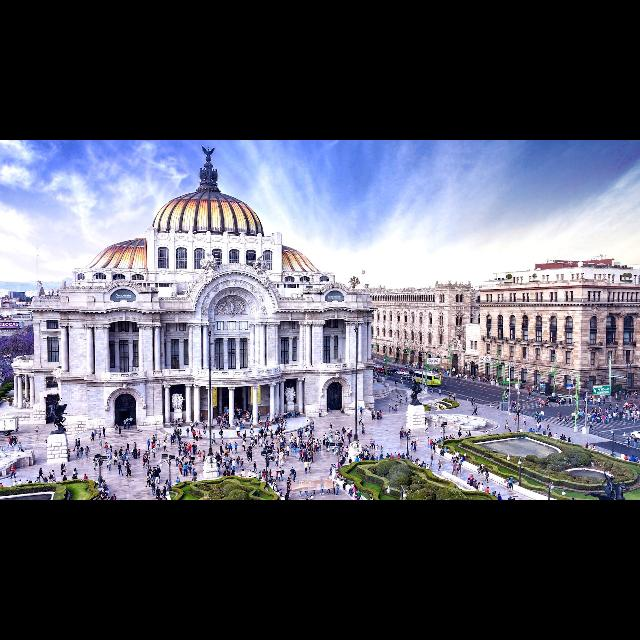head: (344, 478, 348, 482), (113, 494, 115, 498), (275, 484, 277, 488), (285, 448, 287, 452), (328, 480, 332, 482), (355, 492, 357, 496), (340, 474, 342, 478), (51, 470, 54, 472), (314, 481, 316, 484), (321, 480, 324, 482), (333, 481, 335, 484), (495, 491, 497, 494), (0, 483, 2, 485), (12, 465, 14, 467), (9, 437, 11, 439), (11, 436, 13, 438), (14, 436, 16, 438), (19, 442, 21, 444), (15, 481, 17, 483), (20, 480, 22, 482), (27, 480, 29, 482), (29, 479, 31, 481), (38, 477, 40, 479), (41, 468, 43, 470), (45, 477, 47, 479), (49, 472, 51, 474), (61, 463, 63, 465), (64, 464, 66, 466), (64, 476, 66, 478), (75, 469, 77, 471), (85, 474, 87, 476), (68, 449, 70, 451), (76, 439, 78, 441), (78, 438, 80, 440), (77, 448, 79, 450), (81, 447, 83, 449), (86, 446, 88, 448), (94, 459, 96, 461), (92, 432, 94, 434), (116, 425, 118, 427), (119, 427, 121, 429), (100, 438, 102, 440), (106, 443, 108, 445), (105, 443, 107, 445), (110, 445, 112, 447), (125, 419, 127, 421), (130, 416, 132, 418), (108, 458, 110, 460), (110, 453, 112, 455), (115, 455, 117, 457), (119, 463, 121, 465), (120, 449, 122, 451), (121, 447, 123, 449), (127, 443, 129, 445), (125, 449, 127, 451), (124, 453, 126, 455), (125, 460, 127, 462), (128, 466, 130, 468), (134, 448, 136, 450), (134, 442, 136, 444), (134, 447, 136, 449), (148, 439, 150, 441), (144, 455, 146, 457), (154, 446, 156, 448), (153, 442, 155, 444), (153, 435, 155, 437), (155, 434, 157, 436), (157, 439, 159, 441), (164, 440, 166, 442), (165, 432, 167, 434), (163, 496, 165, 498), (164, 487, 166, 489), (157, 486, 159, 488), (153, 481, 155, 483), (165, 484, 167, 486), (177, 477, 179, 479), (147, 474, 149, 476), (158, 472, 160, 474), (157, 466, 159, 468), (194, 474, 196, 476), (193, 469, 195, 471), (180, 463, 182, 465), (185, 463, 187, 465), (186, 461, 188, 463), (189, 461, 191, 463), (192, 455, 194, 457), (199, 451, 201, 453), (203, 450, 205, 452), (171, 435, 173, 437), (173, 433, 175, 435), (174, 433, 176, 435), (180, 434, 182, 436), (187, 428, 189, 430), (194, 430, 196, 432), (196, 431, 198, 433), (175, 420, 177, 422), (191, 422, 193, 424), (204, 423, 206, 425), (213, 433, 215, 435), (238, 413, 240, 415), (238, 425, 240, 427), (243, 418, 245, 420), (247, 413, 249, 415), (251, 414, 253, 416), (259, 411, 261, 413), (268, 412, 270, 414), (250, 423, 252, 425), (244, 434, 246, 436), (235, 442, 237, 444), (244, 440, 246, 442), (229, 443, 231, 445), (226, 443, 228, 445), (220, 446, 222, 448), (217, 453, 219, 455), (221, 453, 223, 455), (225, 455, 227, 457), (227, 460, 229, 462), (230, 457, 232, 459), (234, 459, 236, 461), (238, 456, 240, 458), (241, 457, 243, 459), (224, 471, 226, 473), (228, 471, 230, 473), (232, 471, 234, 473), (242, 469, 244, 471), (250, 470, 252, 472), (253, 471, 255, 473), (255, 461, 257, 463), (250, 451, 252, 453), (251, 433, 253, 435), (258, 434, 260, 436), (264, 422, 266, 424), (267, 421, 269, 423), (265, 431, 267, 433), (265, 438, 267, 440), (272, 417, 274, 419), (285, 420, 287, 422), (281, 420, 283, 422), (271, 429, 273, 431), (260, 472, 262, 474), (270, 470, 272, 472), (271, 476, 273, 478), (274, 479, 276, 481), (275, 481, 277, 483), (275, 485, 277, 487), (281, 489, 283, 491), (288, 484, 290, 486), (292, 467, 294, 469), (277, 459, 279, 461), (279, 453, 281, 455), (287, 445, 289, 447), (297, 436, 299, 438), (295, 443, 297, 445), (305, 427, 307, 429), (310, 422, 312, 424), (313, 421, 315, 423), (319, 409, 321, 411), (300, 448, 302, 450), (303, 450, 305, 452), (309, 453, 311, 455), (311, 451, 313, 453), (305, 460, 307, 462), (309, 460, 311, 462), (323, 435, 325, 437), (325, 433, 327, 435), (329, 426, 331, 428), (327, 441, 329, 443), (306, 483, 308, 485), (335, 482, 337, 484), (359, 490, 361, 492), (352, 482, 354, 484), (333, 464, 335, 466), (331, 464, 333, 466), (349, 457, 351, 459), (347, 446, 349, 448), (350, 432, 352, 434), (356, 456, 358, 458), (361, 453, 363, 455), (362, 456, 364, 458), (371, 439, 373, 441), (372, 438, 374, 440), (363, 424, 365, 426), (363, 425, 365, 427), (374, 409, 376, 411), (378, 410, 380, 412), (396, 404, 398, 406), (375, 451, 377, 453), (377, 445, 379, 447), (381, 446, 383, 448), (387, 453, 389, 455), (391, 454, 393, 456), (395, 452, 397, 454), (398, 453, 400, 455), (403, 453, 405, 455), (407, 451, 409, 453), (408, 450, 410, 452), (411, 456, 413, 458), (418, 459, 420, 461), (425, 463, 427, 465), (432, 455, 434, 457), (439, 460, 441, 462), (428, 437, 430, 439), (434, 441, 436, 443), (435, 439, 437, 441), (439, 438, 441, 440), (444, 446, 446, 448), (450, 435, 452, 437), (453, 433, 455, 435), (454, 462, 456, 464), (460, 463, 462, 465), (486, 471, 488, 473), (468, 478, 470, 480), (471, 475, 473, 477), (472, 478, 474, 480), (475, 480, 477, 482), (479, 483, 481, 485), (482, 484, 484, 486), (487, 487, 489, 489), (510, 477, 512, 479), (510, 476, 512, 478), (474, 406, 476, 408), (505, 395, 507, 397), (506, 420, 508, 422), (524, 417, 526, 419), (514, 416, 516, 418), (527, 397, 529, 399), (542, 400, 544, 402), (536, 411, 538, 413), (539, 413, 541, 415), (533, 429, 535, 431), (538, 422, 540, 424), (564, 435, 566, 437), (569, 437, 571, 439), (558, 412, 560, 414), (565, 414, 567, 416), (573, 412, 575, 414), (580, 411, 582, 413), (582, 411, 584, 413), (603, 398, 605, 400), (603, 414, 605, 416), (606, 408, 608, 410), (598, 414, 600, 416), (593, 413, 595, 415), (592, 408, 594, 410), (591, 411, 593, 413), (595, 408, 597, 410), (623, 413, 625, 415), (635, 414, 637, 416), (587, 443, 589, 445), (594, 445, 596, 447), (613, 451, 615, 453), (623, 453, 625, 455), (625, 454, 627, 456), (632, 455, 634, 457), (636, 457, 638, 459), (94, 430, 95, 432), (115, 450, 116, 452), (222, 437, 224, 438), (246, 431, 247, 433), (276, 431, 278, 432), (321, 440, 322, 442), (310, 427, 312, 428), (331, 423, 332, 425), (372, 455, 373, 457), (401, 431, 402, 433), (477, 407, 478, 409), (454, 392, 456, 393), (467, 374, 468, 376), (508, 429, 509, 431), (520, 428, 522, 429), (541, 411, 543, 412), (587, 412, 589, 413), (614, 412, 616, 413), (624, 402, 626, 403), (635, 438, 637, 439), (351, 431, 352, 432), (372, 411, 373, 412), (432, 388, 433, 389), (38, 426, 38, 428), (100, 428, 100, 429), (104, 428, 105, 428), (130, 421, 130, 422), (128, 418, 128, 420), (140, 450, 140, 450), (190, 443, 190, 445), (200, 434, 202, 434), (196, 422, 198, 422), (202, 413, 202, 415), (222, 429, 222, 431), (242, 421, 242, 423), (260, 420, 262, 420), (256, 436, 256, 436), (260, 427, 260, 429), (262, 428, 262, 428), (264, 442, 264, 443), (272, 430, 272, 430), (280, 467, 280, 469), (278, 448, 278, 448), (308, 421, 308, 422), (306, 450, 308, 450), (344, 428, 344, 428), (360, 416, 360, 416), (362, 408, 362, 408), (378, 412, 378, 414), (390, 404, 390, 406), (404, 432, 406, 432), (412, 442, 413, 442), (415, 442, 417, 442), (424, 462, 424, 462), (428, 464, 428, 466), (432, 439, 432, 441), (427, 422, 429, 422), (460, 430, 460, 432), (466, 431, 466, 433), (470, 431, 470, 432), (484, 432, 484, 432), (487, 432, 488, 432), (432, 388, 432, 388), (440, 390, 440, 390), (446, 384, 446, 384), (450, 393, 450, 395), (454, 394, 454, 394), (440, 372, 440, 372), (448, 371, 448, 372), (458, 374, 458, 374), (508, 386, 508, 386), (516, 416, 516, 416), (546, 401, 546, 402), (576, 394, 576, 394), (548, 422, 548, 423), (546, 431, 546, 432), (550, 432, 550, 433), (555, 434, 557, 434), (562, 434, 562, 436), (584, 394, 584, 396), (586, 398, 586, 398), (600, 398, 600, 398), (592, 422, 592, 422), (610, 414, 610, 414), (616, 404, 618, 404), (622, 412, 624, 412), (620, 391, 620, 392), (632, 412, 634, 412), (626, 402, 628, 402), (590, 444, 590, 444), (630, 437, 630, 438)
person: (348, 480, 357, 496), (154, 465, 162, 481), (278, 466, 286, 482), (328, 464, 338, 476), (334, 479, 341, 496), (38, 467, 46, 481), (46, 471, 54, 485), (72, 438, 80, 452), (117, 462, 125, 476), (144, 474, 152, 488), (276, 452, 284, 466), (436, 458, 444, 472), (506, 475, 514, 489), (286, 481, 292, 499), (320, 479, 326, 496), (248, 450, 255, 464), (10, 464, 16, 480), (66, 448, 72, 464), (151, 480, 157, 496), (162, 483, 170, 495), (183, 462, 189, 478), (222, 454, 228, 470), (231, 458, 237, 474), (274, 484, 282, 496), (304, 482, 310, 498), (342, 476, 348, 492), (452, 460, 458, 476), (562, 414, 570, 426), (6, 437, 14, 448), (24, 478, 32, 489), (278, 488, 286, 499), (34, 476, 41, 488), (51, 469, 57, 483), (62, 463, 68, 477), (93, 458, 99, 472), (108, 452, 114, 466), (124, 448, 130, 462), (121, 453, 127, 467), (126, 465, 132, 479), (155, 470, 161, 484), (192, 468, 198, 482), (178, 462, 184, 476), (184, 460, 190, 474), (188, 461, 194, 475), (211, 432, 217, 446), (215, 452, 221, 466), (227, 457, 233, 471), (252, 460, 258, 474), (290, 466, 296, 480), (303, 460, 309, 474), (429, 453, 435, 467), (457, 462, 463, 476), (484, 470, 490, 484), (440, 446, 448, 456), (477, 483, 485, 493), (79, 446, 85, 459), (432, 441, 438, 454), (62, 474, 68, 486), (77, 438, 83, 450), (84, 446, 90, 458), (98, 438, 104, 450), (106, 459, 112, 471), (123, 460, 129, 472), (156, 438, 162, 450), (162, 440, 168, 452), (191, 474, 197, 486), (190, 454, 196, 466), (218, 429, 224, 441), (235, 424, 241, 436), (242, 430, 248, 442), (228, 442, 234, 454), (224, 460, 230, 472), (272, 483, 280, 492), (285, 444, 291, 456), (308, 426, 314, 438), (359, 452, 365, 464), (358, 414, 364, 426), (373, 450, 379, 462), (374, 444, 380, 456), (379, 444, 385, 456), (424, 422, 430, 434), (468, 474, 474, 486), (626, 436, 632, 448), (633, 438, 639, 450), (240, 469, 247, 479), (17, 478, 23, 489), (43, 477, 49, 488), (118, 427, 124, 438), (117, 448, 123, 459), (262, 431, 268, 442), (292, 442, 298, 453), (485, 487, 491, 498), (522, 417, 528, 428), (557, 411, 563, 422), (620, 411, 626, 422), (312, 480, 316, 496), (328, 479, 332, 495), (332, 480, 336, 496), (510, 474, 514, 490), (9, 436, 15, 446), (13, 436, 19, 446), (34, 425, 40, 435), (13, 480, 19, 490), (83, 474, 89, 484), (113, 450, 119, 460), (163, 432, 169, 442), (175, 476, 181, 486), (177, 434, 183, 444), (249, 424, 255, 434), (222, 471, 228, 481), (226, 470, 232, 480), (230, 469, 236, 479), (252, 471, 258, 481), (250, 432, 256, 442), (257, 427, 263, 437), (262, 422, 268, 432), (269, 476, 275, 486), (272, 478, 278, 488), (272, 480, 278, 490), (360, 456, 366, 466), (386, 453, 392, 463), (396, 453, 402, 463), (409, 455, 415, 465), (422, 462, 428, 472), (426, 463, 432, 473), (470, 478, 476, 488), (473, 479, 479, 489), (475, 482, 481, 492), (472, 406, 478, 416), (504, 419, 510, 429), (512, 415, 518, 425), (534, 410, 540, 420), (540, 410, 546, 420), (546, 422, 552, 432), (596, 397, 602, 407), (586, 412, 592, 422), (588, 421, 594, 431), (596, 414, 602, 424), (614, 402, 620, 412), (630, 412, 636, 422), (622, 402, 628, 412), (612, 450, 618, 460), (620, 452, 626, 462), (630, 455, 636, 465), (60, 462, 64, 476), (74, 468, 78, 482), (147, 438, 151, 452), (142, 454, 146, 468), (240, 457, 244, 471), (298, 448, 302, 462), (302, 449, 306, 463), (304, 448, 308, 462), (308, 460, 312, 474), (202, 422, 208, 431), (258, 472, 264, 481), (436, 438, 442, 447), (448, 392, 454, 401), (604, 408, 610, 417), (612, 412, 618, 421), (624, 453, 630, 462), (133, 446, 137, 459), (307, 451, 311, 464), (310, 451, 314, 464), (427, 436, 431, 449), (76, 448, 80, 460), (114, 423, 120, 431), (104, 442, 108, 454), (114, 454, 118, 466), (126, 442, 130, 454), (132, 447, 136, 459), (133, 441, 137, 453), (152, 446, 156, 458), (152, 442, 156, 454), (198, 450, 202, 462), (202, 450, 206, 462), (188, 442, 192, 454), (170, 434, 174, 446), (172, 434, 176, 446), (250, 414, 254, 426), (242, 431, 246, 443), (234, 442, 238, 454), (242, 440, 246, 452), (236, 456, 240, 468), (254, 434, 258, 446), (257, 434, 261, 446), (284, 448, 288, 460), (296, 436, 300, 448), (304, 426, 308, 438), (322, 434, 326, 446), (326, 440, 330, 452), (338, 474, 344, 482), (344, 446, 348, 458), (342, 426, 346, 438), (348, 432, 352, 444), (354, 456, 360, 464), (370, 456, 376, 464), (372, 438, 376, 450), (361, 424, 365, 436), (414, 440, 418, 452), (429, 438, 433, 450), (458, 430, 462, 442), (492, 490, 498, 498), (542, 430, 548, 438), (562, 434, 568, 442), (567, 436, 573, 444), (584, 442, 590, 450), (588, 443, 594, 451), (102, 427, 106, 438), (104, 442, 108, 453), (123, 418, 127, 429), (130, 417, 134, 428), (119, 447, 123, 458), (172, 432, 176, 443), (195, 431, 199, 442), (200, 412, 204, 423), (242, 418, 246, 429), (225, 442, 229, 453), (266, 421, 270, 432), (262, 442, 266, 453), (274, 457, 278, 468), (324, 432, 328, 443), (329, 422, 333, 433), (368, 438, 372, 449), (410, 441, 414, 452), (434, 438, 438, 449), (452, 432, 456, 443), (536, 422, 540, 433), (594, 407, 598, 418), (622, 412, 626, 423), (0, 482, 4, 492), (18, 442, 22, 452), (28, 478, 32, 488), (90, 432, 94, 442), (92, 429, 96, 439), (98, 428, 102, 438), (128, 420, 132, 430), (126, 417, 130, 427), (137, 448, 141, 458), (152, 435, 156, 445), (154, 434, 158, 444), (186, 428, 190, 438), (192, 430, 196, 440), (190, 422, 194, 432), (237, 413, 241, 423), (239, 420, 243, 430), (246, 413, 250, 423), (258, 410, 262, 420), (266, 412, 270, 422), (250, 422, 254, 432), (220, 446, 224, 456), (219, 454, 223, 464), (248, 469, 252, 479), (260, 428, 264, 438), (264, 438, 268, 448), (284, 420, 288, 430), (280, 419, 284, 429), (271, 430, 275, 440), (270, 429, 274, 439), (275, 429, 279, 439), (318, 440, 322, 450), (306, 420, 310, 430), (311, 421, 315, 431), (318, 408, 322, 418), (330, 464, 334, 474), (348, 456, 352, 466), (362, 424, 366, 434), (359, 406, 363, 416), (371, 410, 375, 420), (373, 409, 377, 419), (390, 452, 394, 462), (394, 452, 398, 462), (402, 452, 406, 462), (399, 431, 403, 441), (418, 458, 422, 468), (422, 460, 426, 470), (449, 434, 453, 444), (464, 431, 468, 441), (468, 429, 472, 439), (466, 477, 470, 487), (526, 397, 530, 407), (574, 392, 578, 402), (536, 412, 540, 422), (538, 412, 542, 422), (578, 410, 582, 420), (581, 410, 585, 420), (601, 414, 605, 424), (608, 413, 612, 423), (592, 413, 596, 423), (634, 414, 638, 424), (174, 419, 178, 428), (258, 419, 264, 425), (406, 452, 410, 461), (453, 392, 457, 401), (540, 399, 544, 408), (544, 399, 548, 408), (548, 432, 554, 438), (560, 433, 564, 442), (625, 402, 629, 411), (110, 444, 114, 452), (199, 432, 203, 440), (195, 420, 199, 428), (271, 417, 275, 425), (276, 446, 280, 454), (309, 422, 313, 430), (328, 426, 332, 434), (377, 409, 381, 417), (388, 404, 392, 412), (394, 404, 398, 412), (485, 430, 489, 438), (444, 382, 448, 390), (452, 394, 456, 402), (506, 385, 510, 393), (504, 393, 508, 401), (519, 428, 523, 436), (514, 414, 518, 422), (532, 428, 536, 436), (554, 432, 558, 440), (582, 393, 586, 401), (584, 397, 588, 405), (602, 398, 606, 406), (590, 408, 594, 416), (589, 410, 593, 418), (618, 390, 622, 398), (592, 443, 596, 451), (220, 435, 223, 445), (438, 389, 442, 396), (376, 412, 379, 421), (270, 469, 272, 481), (481, 432, 485, 438), (431, 386, 434, 394), (438, 371, 442, 377), (465, 374, 469, 380), (508, 429, 512, 435), (446, 369, 449, 376), (350, 429, 352, 439), (408, 449, 410, 459), (404, 432, 406, 441), (572, 412, 574, 421), (476, 406, 478, 414), (430, 386, 432, 394), (456, 374, 458, 381)
